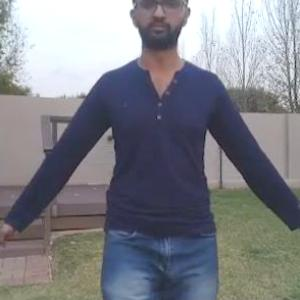land: (17, 7, 289, 299)
